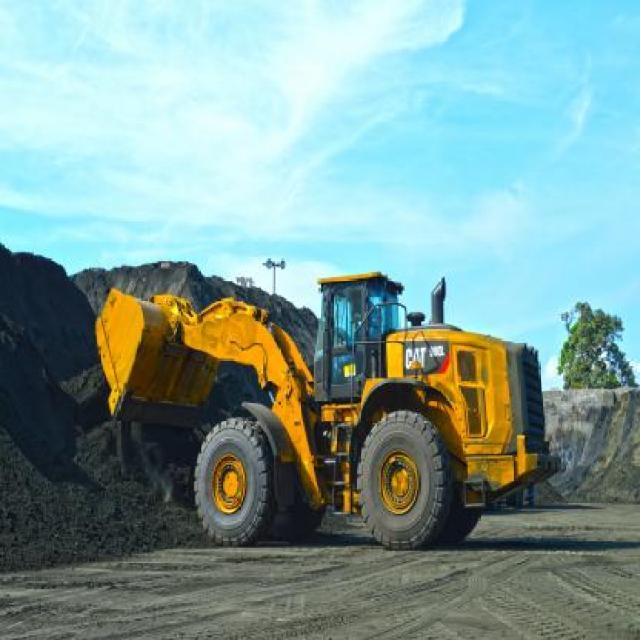Loader: (91, 267, 548, 552)
